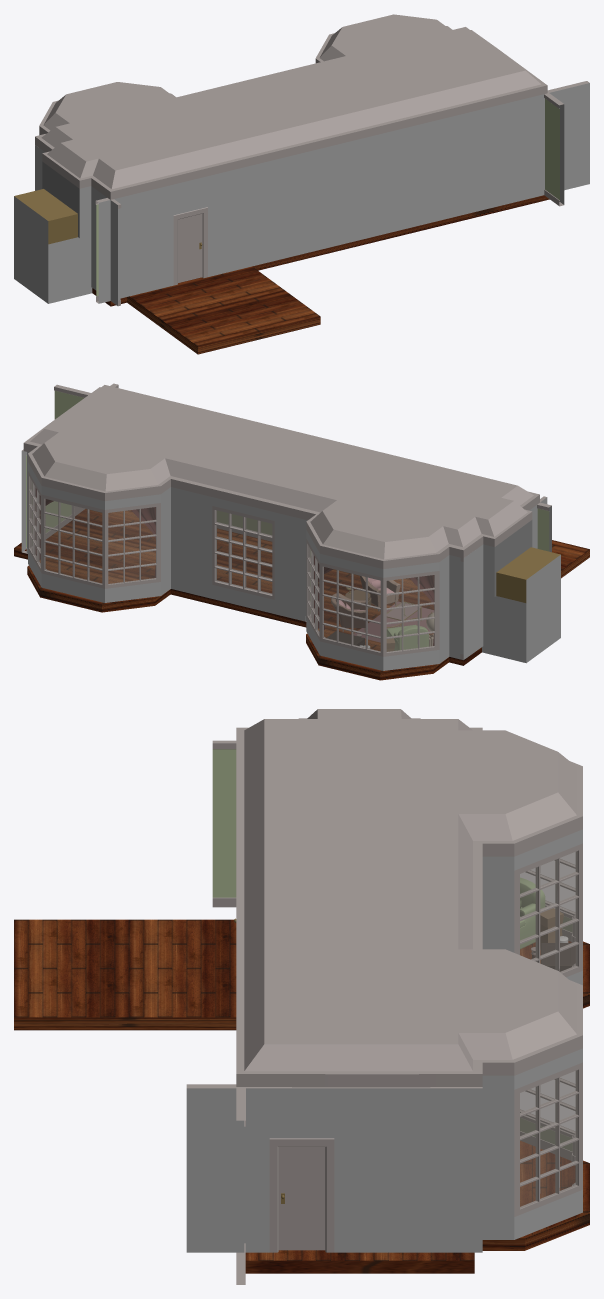
The model's file is ph_Apartment.fbx.
3 renders of one model, top to bottom at view 1: azimuth 30°, elevation 25°; view 2: azimuth 150°, elevation 25°; view 3: azimuth 270°, elevation 25°, orthographic. The views are drawn at different scales.
Parts seen in each view (by area): view 1: ceiling_mesh, wall_01_mesh, floorTile_mesh, hearth_mesh, fireplaceWall_mesh, door_01_mesh, wall_02_mesh, floor_mesh1, floor_mesh; view 2: ceiling_mesh, WindowAlcove_mesh6, WindowAlcove_mesh, floor_mesh1, wall_03_mesh, hearth_mesh, fireplaceWall_mesh, floor_mesh, windowGlass2_mesh1, windowGlass2_mesh, windowGlass2_mesh2, windowGlass1_mesh (+11 smaller); view 3: ceiling_mesh, wall_02_mesh, floorTile_mesh, WindowAlcove_mesh6, floor_mesh1, WindowAlcove_mesh, door_02_mesh, windowGlass3_mesh1, windowGlass3_mesh, fireplaceWall_mesh, windowGlass1_mesh1, windowGlass1_mesh (+1 smaller).
Part boxes in pixels (x1=…): ceiling_mesh: x1=35, y1=14, x2=547, y2=199; wall_01_mesh: x1=95, y1=81, x2=589, y2=303; floorTile_mesh: x1=127, y1=266, x2=320, y2=354; hearth_mesh: x1=14, y1=189, x2=92, y2=303; fireplaceWall_mesh: x1=35, y1=145, x2=121, y2=306; door_01_mesh: x1=173, y1=207, x2=207, y2=285; wall_02_mesh: x1=544, y1=93, x2=564, y2=206; floor_mesh1: x1=311, y1=195, x2=549, y2=257; floor_mesh: x1=92, y1=252, x2=311, y2=306; ceiling_mesh: x1=23, y1=385, x2=539, y2=568; WindowAlcove_mesh6: x1=27, y1=452, x2=183, y2=602; WindowAlcove_mesh: x1=305, y1=520, x2=460, y2=670; floor_mesh1: x1=14, y1=509, x2=272, y2=616; wall_03_mesh: x1=183, y1=490, x2=305, y2=621; hearth_mesh: x1=482, y1=547, x2=560, y2=663; fireplaceWall_mesh: x1=460, y1=496, x2=547, y2=660; floor_mesh: x1=261, y1=569, x2=481, y2=680; windowGlass2_mesh1: x1=44, y1=499, x2=102, y2=583; windowGlass2_mesh: x1=323, y1=567, x2=380, y2=652; windowGlass2_mesh2: x1=215, y1=510, x2=272, y2=594; windowGlass1_mesh: x1=386, y1=575, x2=434, y2=652; ceiling_mesh: x1=236, y1=709, x2=582, y2=1087; wall_02_mesh: x1=186, y1=1084, x2=482, y2=1252; floorTile_mesh: x1=14, y1=919, x2=236, y2=1030; WindowAlcove_mesh6: x1=482, y1=1048, x2=582, y2=1239; floor_mesh1: x1=245, y1=1141, x2=589, y2=1273; WindowAlcove_mesh: x1=482, y1=829, x2=582, y2=985; door_02_mesh: x1=269, y1=1138, x2=334, y2=1252; windowGlass3_mesh1: x1=520, y1=1070, x2=578, y2=1208; windowGlass3_mesh: x1=520, y1=851, x2=577, y2=972; fireplaceWall_mesh: x1=212, y1=740, x2=236, y2=907; windowGlass1_mesh1: x1=520, y1=1071, x2=575, y2=1130; windowGlass1_mesh: x1=520, y1=852, x2=575, y2=912.
Bounding box in the file's own units: 16.97 × 4.01 × 10.
32 materials, 1 textured.
